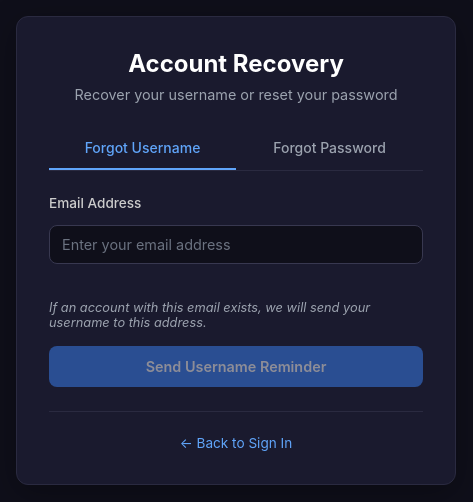
Test case: ForgotCredentialsView › switches to password tab on click
Click the tab with test id "tab-password" at (330, 148), box [236,126,423,170]
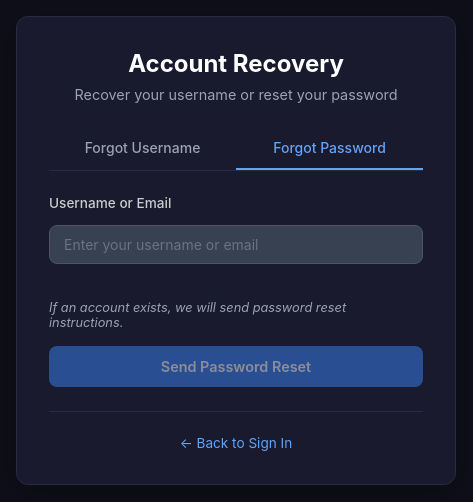
Now the panel with test id "panel-password" is shown, box [49,194,423,386]
